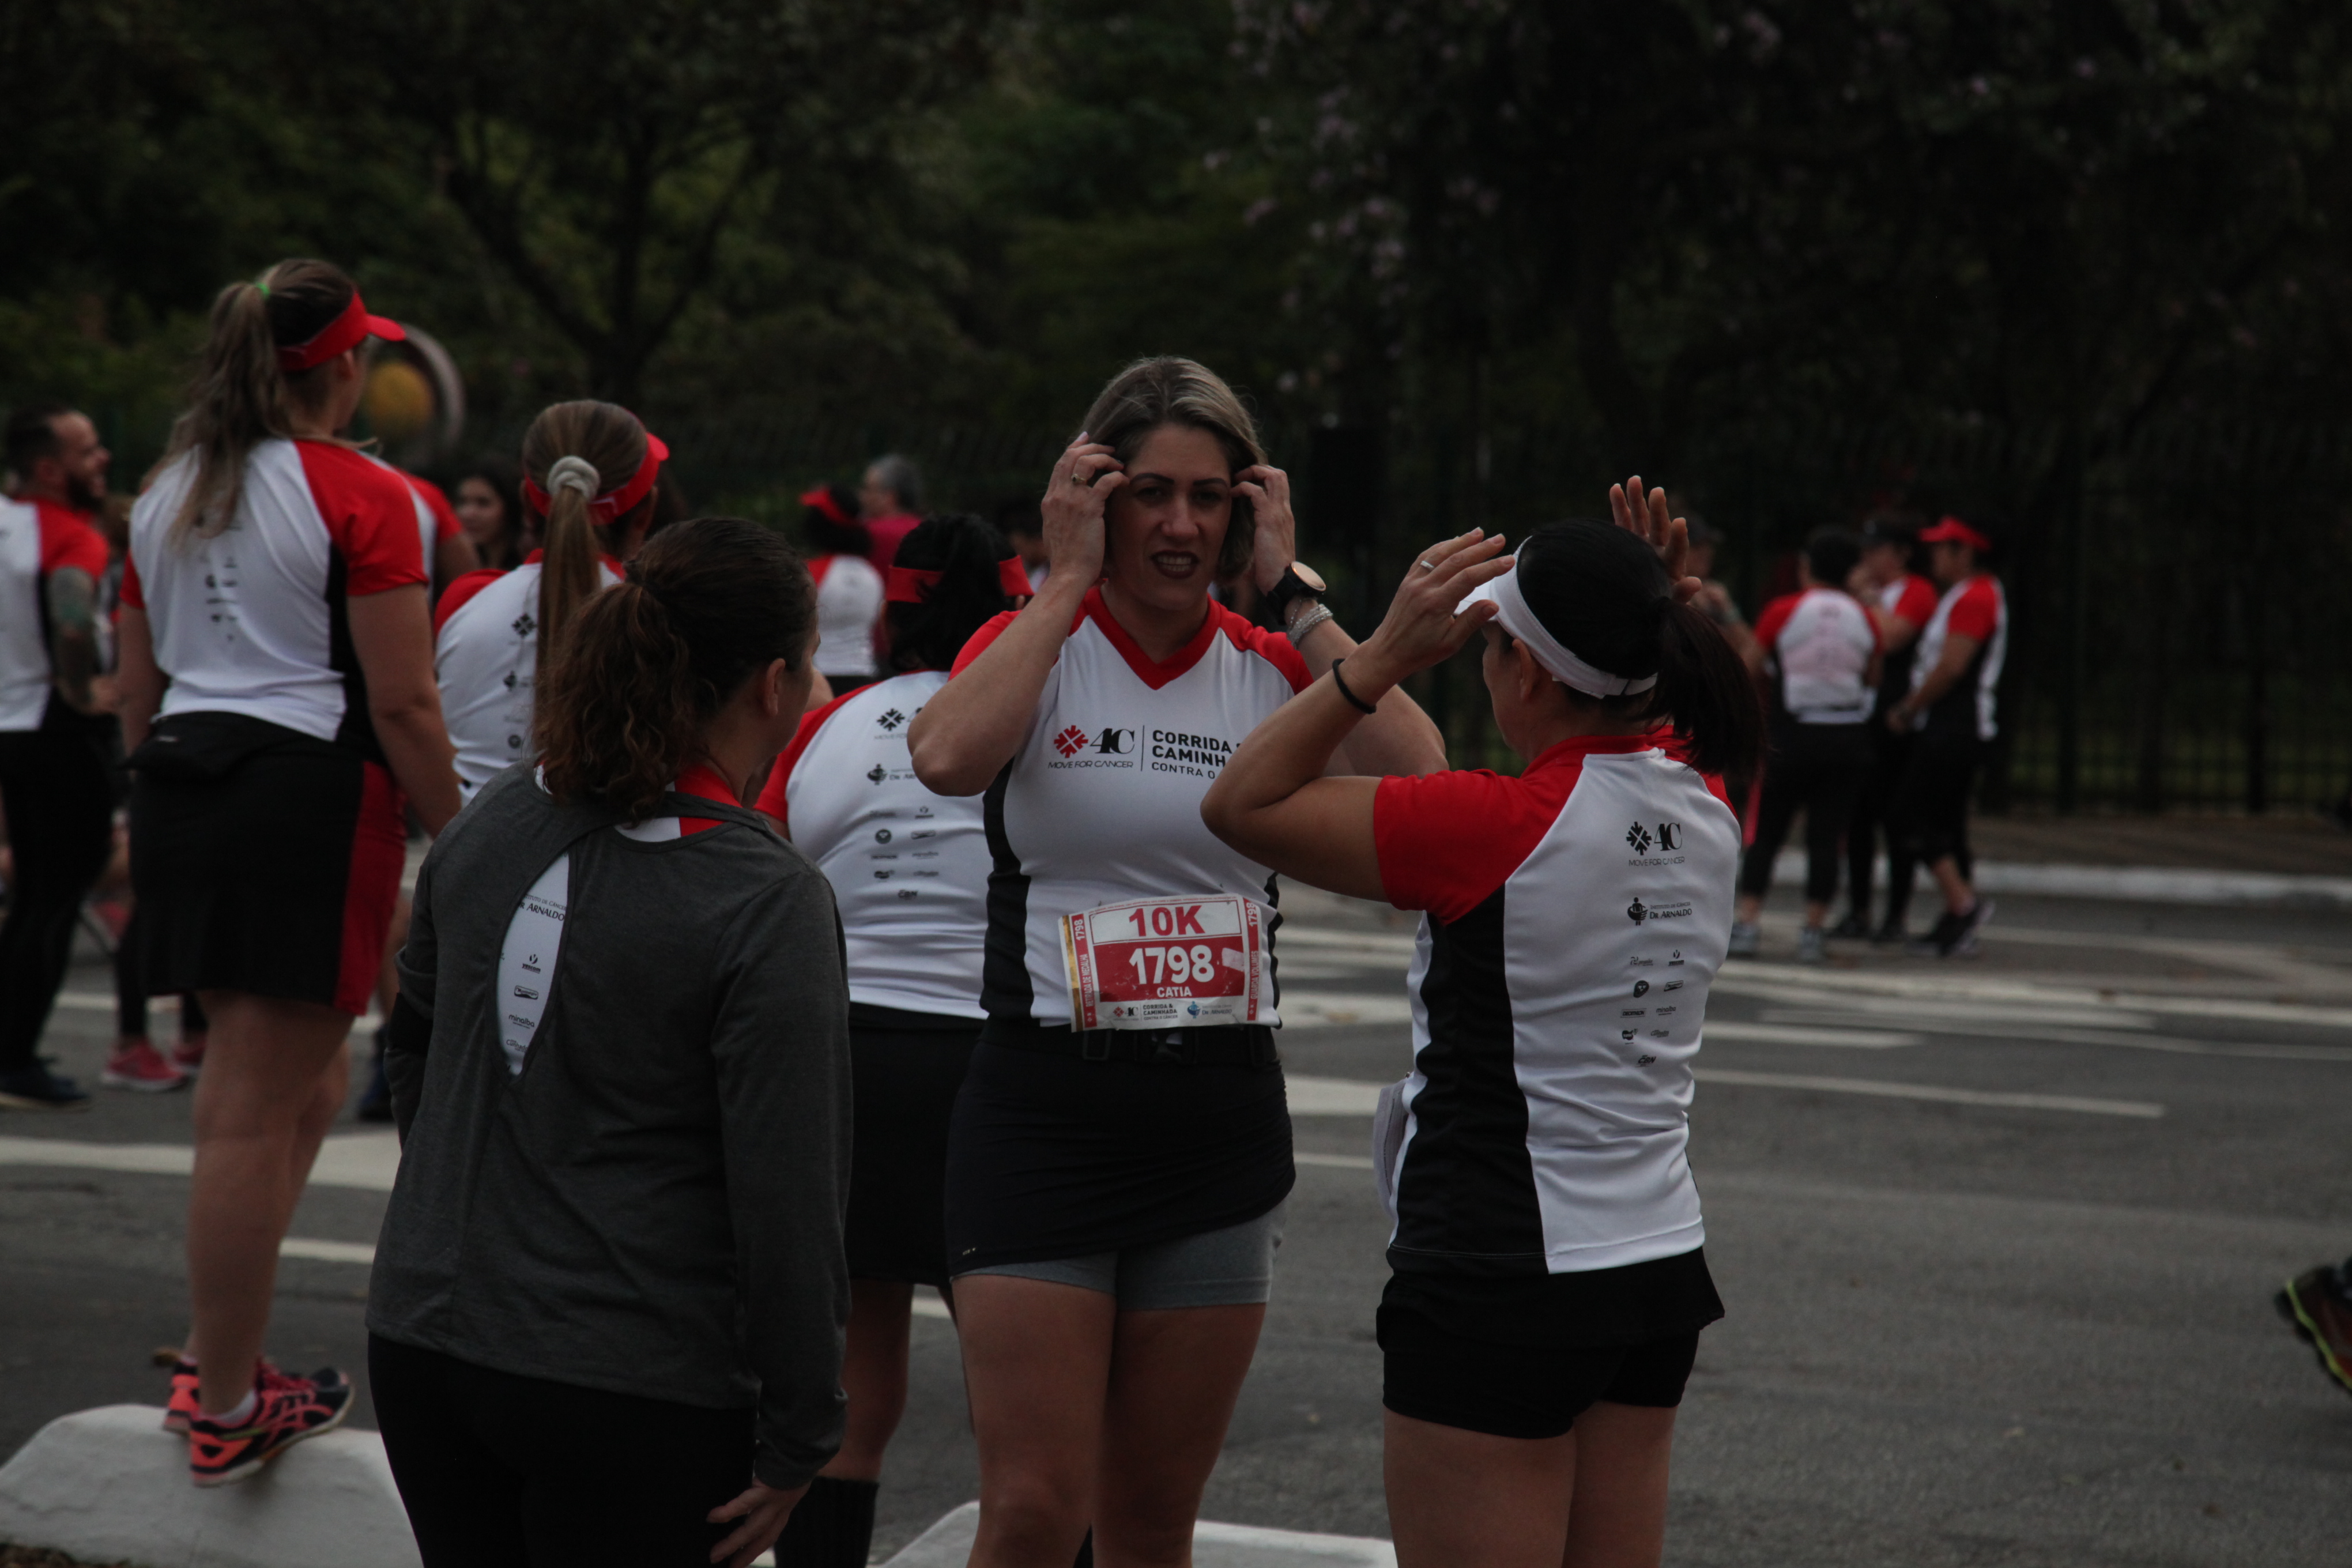bibtag: (1045, 892, 1277, 1036)
